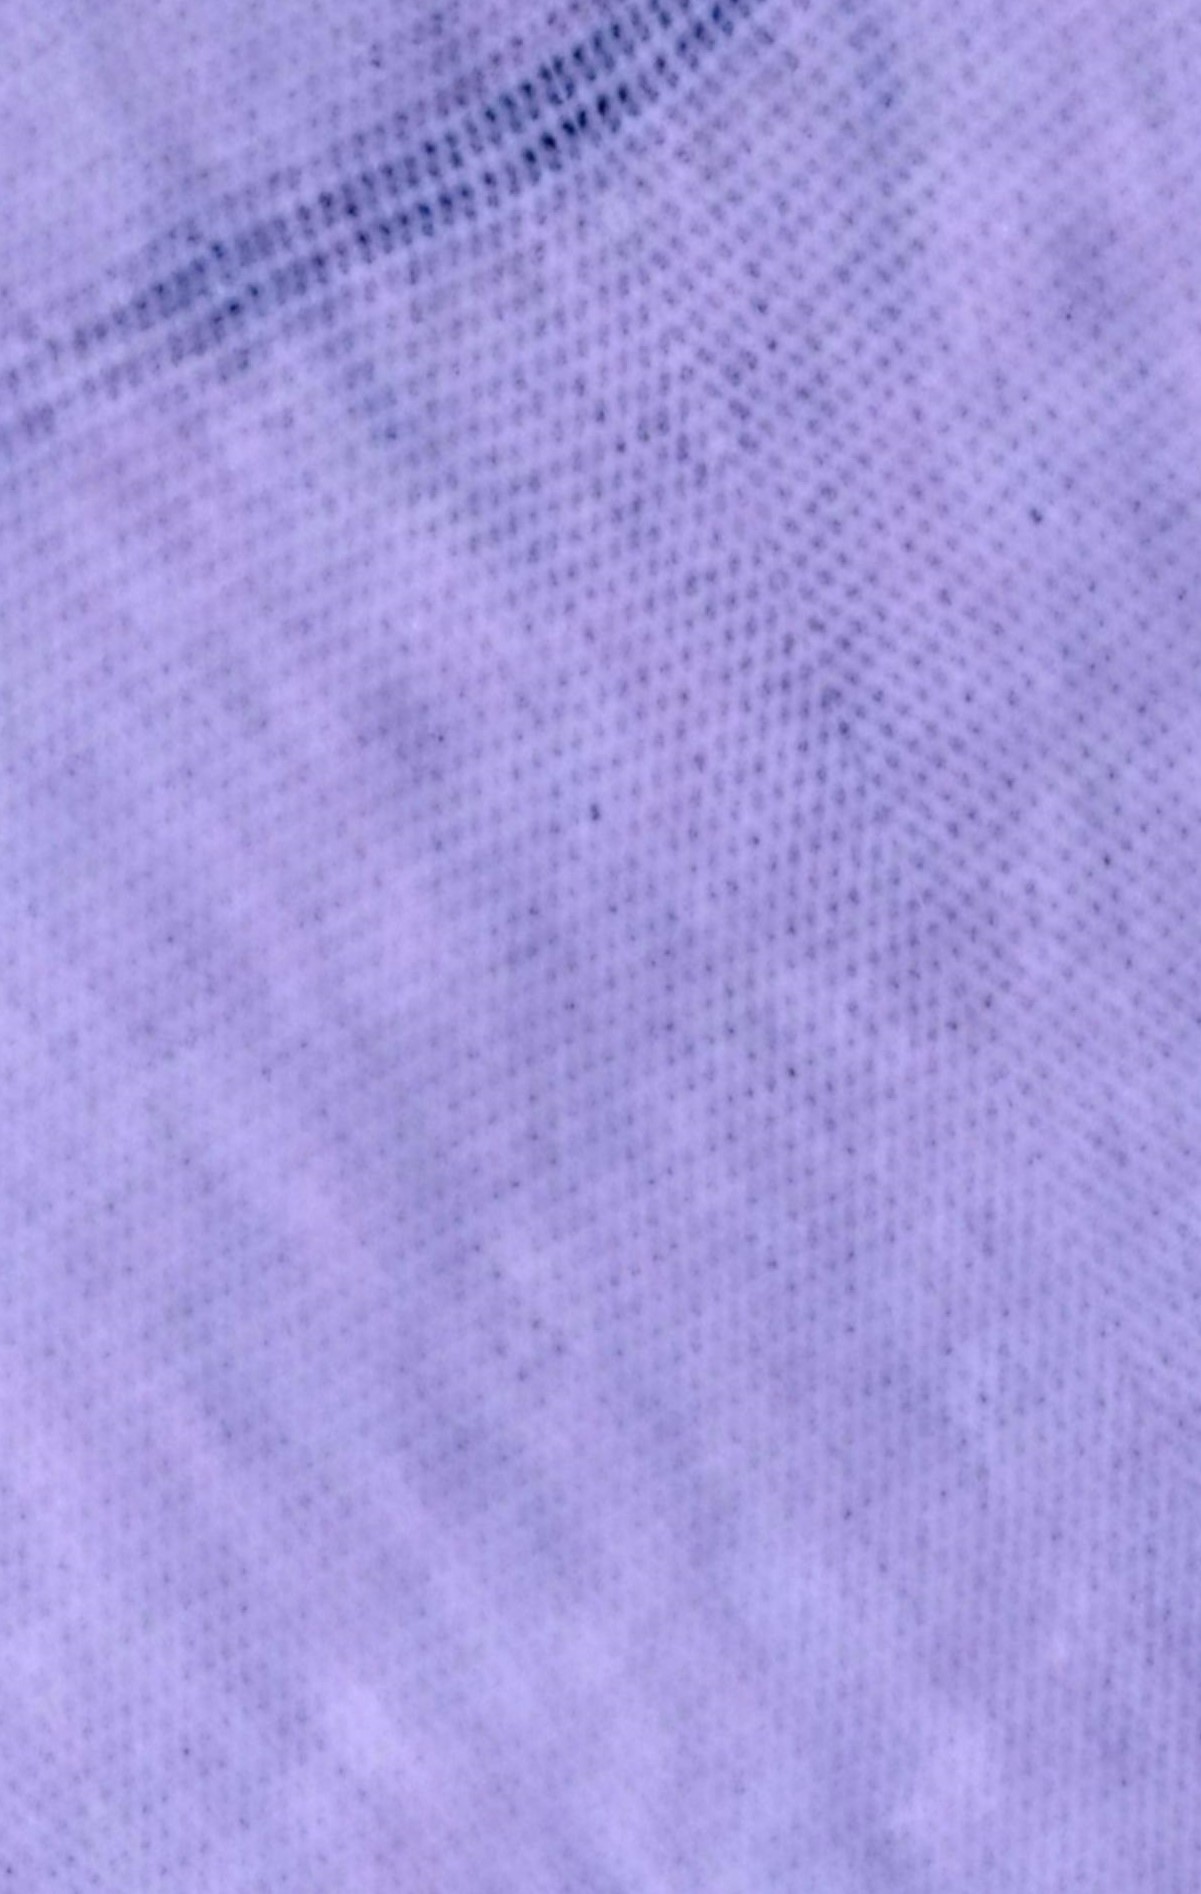slub: (4, 0, 779, 508)
